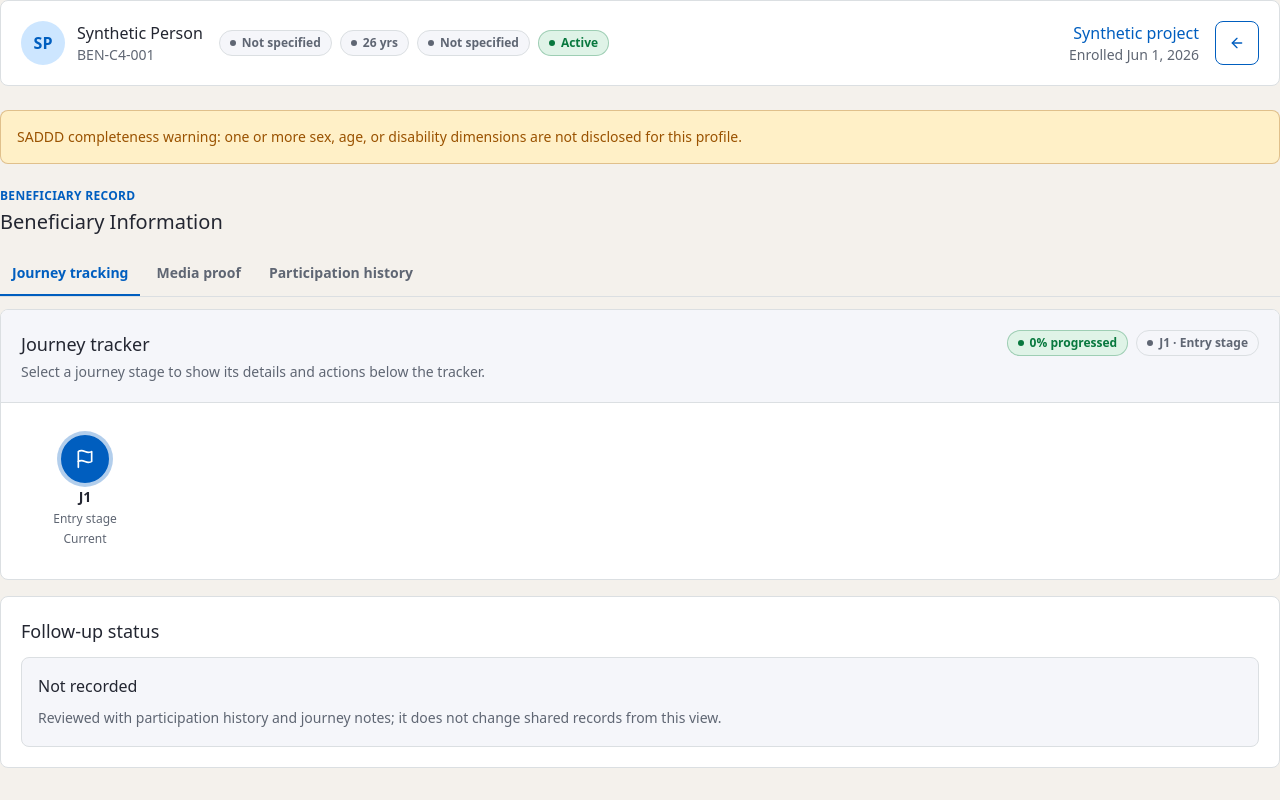
Test: BeneficiaryDetail assessments › disables the button for a genuinely empty result
Click the button "J1 Entry stage Current".
click(85, 491)  # box [37,435,133,547]
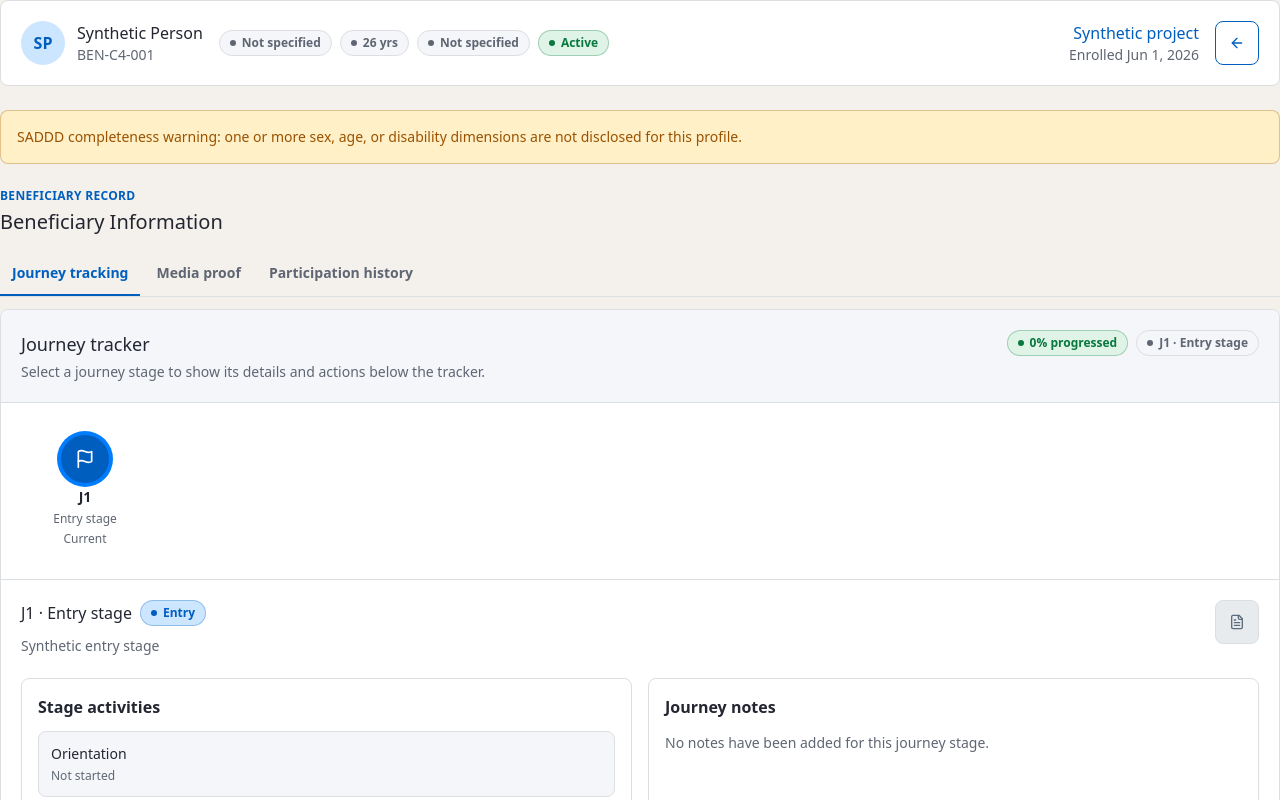
Expected: the button named "View assessment" is disabled, [1215,600,1259,644]
